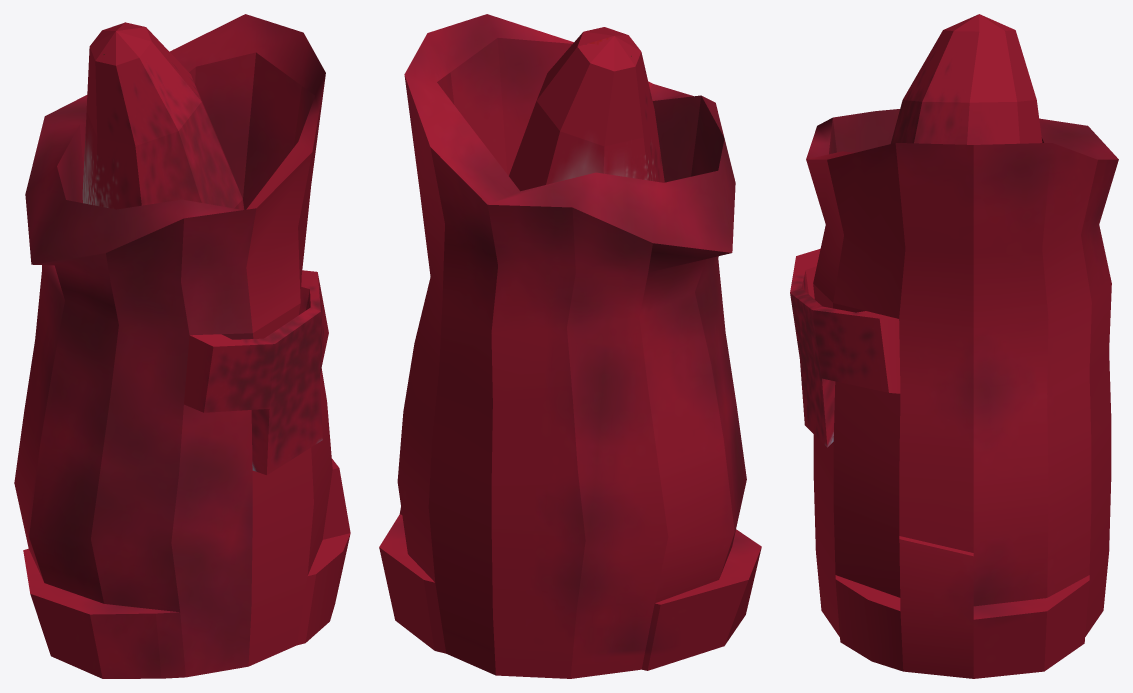
File: Plant_Five.fbx
The picture shows the model from 3 angles, left to right: view 1: azimuth 30°, elevation 25°; view 2: azimuth 150°, elevation 25°; view 3: azimuth 270°, elevation 25°; orthographic projection. The views are drawn at different scales.
Visible parts, largest first — view 1: polySurface3; view 2: polySurface3; view 3: polySurface3.
Boxes of the visible parts, left/top/right/bottom form: polySurface3: left=14, top=14, right=350, bottom=678; polySurface3: left=379, top=14, right=761, bottom=678; polySurface3: left=790, top=14, right=1118, bottom=678.
Size of the model in its own units: 2.85 by 5.07 by 2.61.
1 material, 1 textured.
